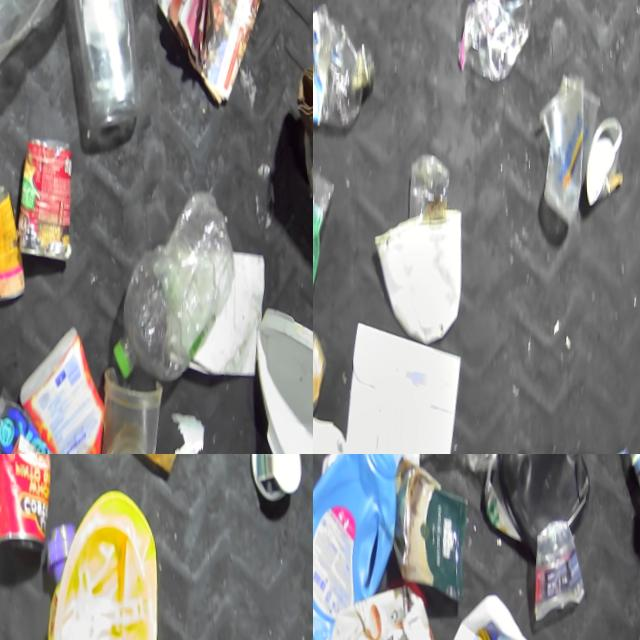can: (14, 140, 78, 270), (0, 454, 59, 568), (0, 186, 20, 316)
milk_jug: (313, 402, 426, 454)
non_white_jug: (313, 454, 400, 640), (17, 339, 111, 454)
plastic_bottle: (109, 195, 239, 379), (67, 0, 140, 159), (313, 0, 381, 137), (609, 454, 640, 536)
